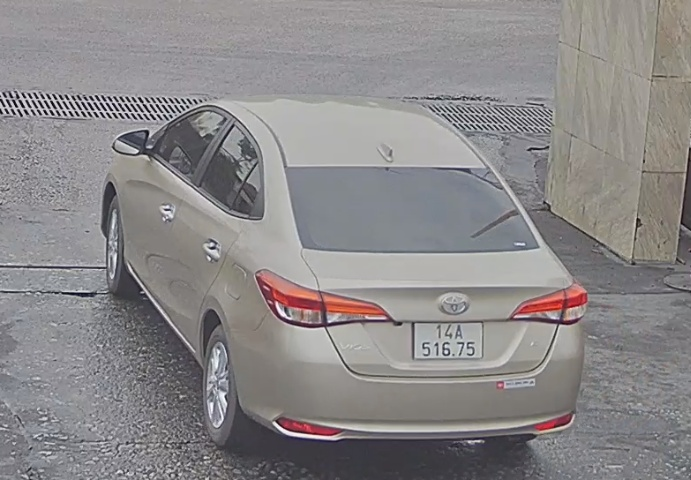vehicle plate: (409, 316, 486, 362)
